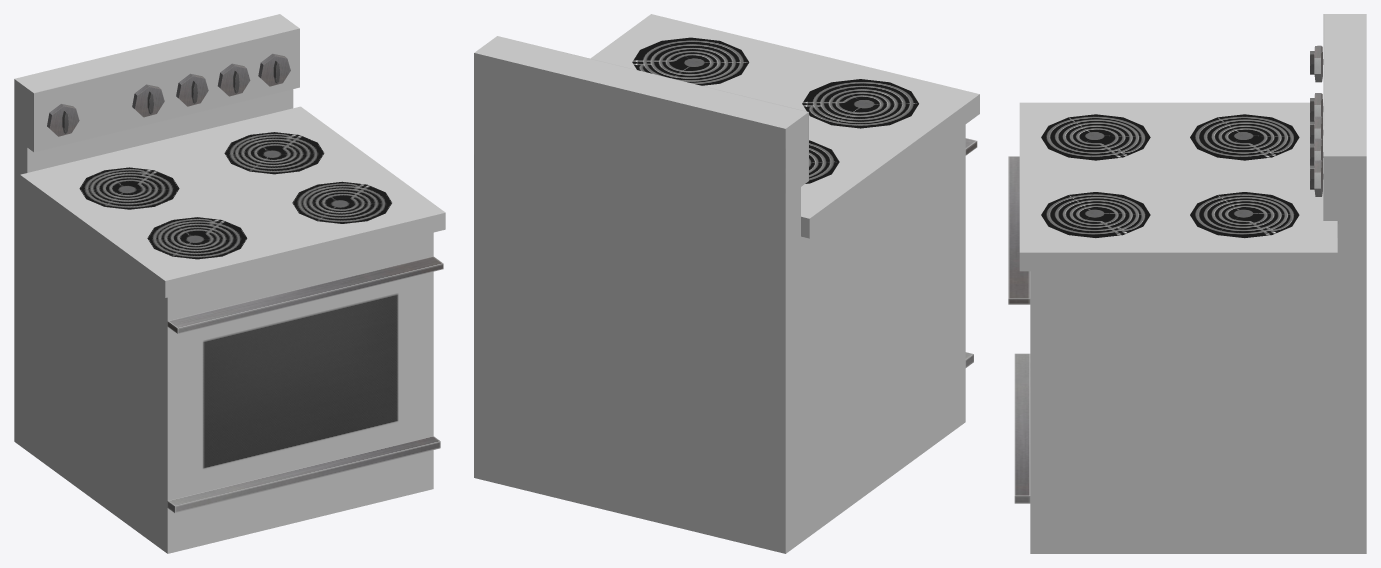
The model's file is Oven.fbx.
The picture shows the model from 3 angles, left to right: view 1: azimuth 30°, elevation 25°; view 2: azimuth 150°, elevation 25°; view 3: azimuth 270°, elevation 25°; orthographic projection. The views are drawn at different scales.
Visible parts, largest first — view 1: Oven; view 2: Oven; view 3: Oven.
Boxes of the visible parts, x1,y1,x2,y2 form: Oven: (14, 14, 445, 553); Oven: (474, 14, 979, 553); Oven: (1008, 14, 1366, 553).
Size of the model in its own units: 82.92 by 102 by 83.76.
1 material, 1 textured.
